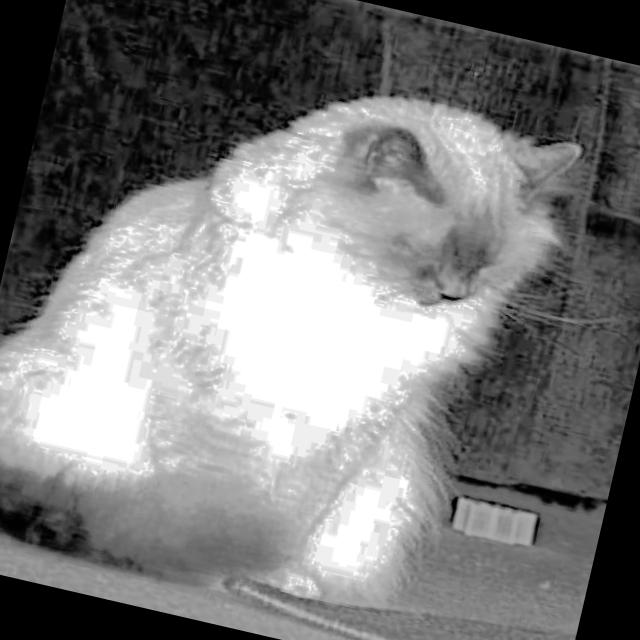Cat: (0, 9, 605, 640)
